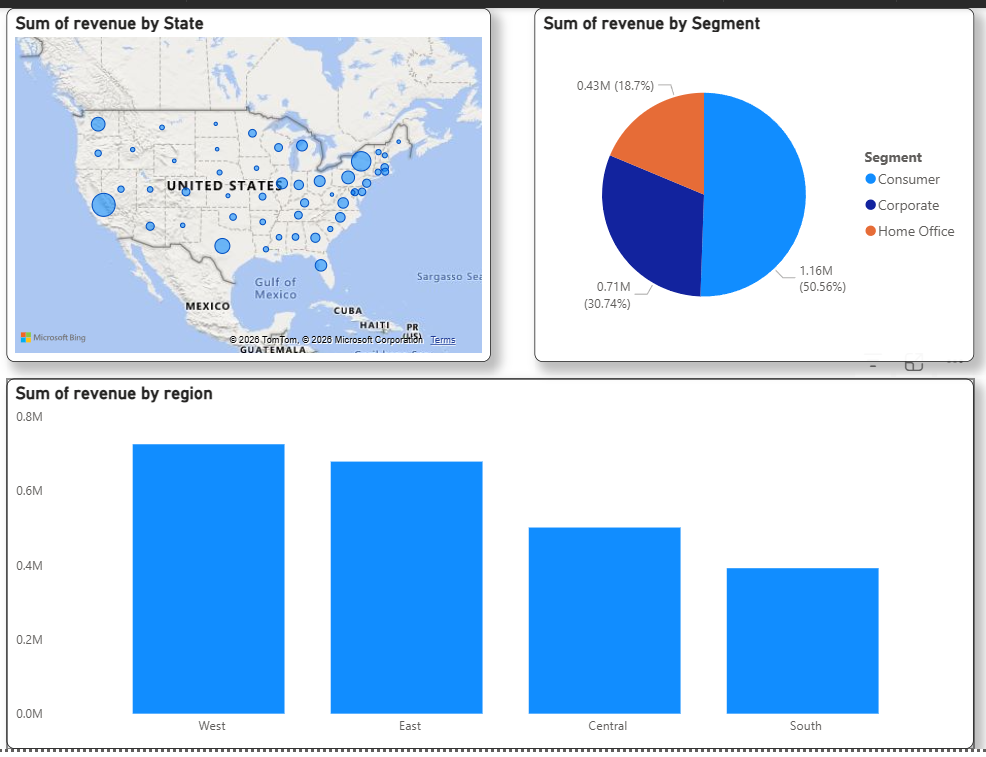

Layout of this report page (visuals, bound fields, positions):
{"tool":"powerbi","page":{"name":"Regional Performance","canvas":[1280,720],"ordinal":1},"visuals":[{"type":"map","fields":{"Category":["public fact_sales.State"],"Size":["Sum(public fact_sales.revenue)"]},"box":[10.2,0,470.9,344.1],"z":0},{"type":"clusteredColumnChart","fields":{"Category":["public fact_sales.region"],"Y":["Sum(public fact_sales.revenue)"]},"box":[10.2,360.1,940.3,360.1],"z":1000},{"type":"pieChart","fields":{"Category":["public fact_sales.Segment"],"Y":["Sum(public fact_sales.revenue)"]},"box":[523.4,0,427.2,344.1],"z":2000}]}

Visuals, with their boxes on the page's 1280x720 design canvas (x1, y1, x2, y2). These are canvas units, not pixel positions in the 986x757 screenshot, which may show the page scaled, cropped or inside an application window:
map - public fact_sales.State x Sum(public fact_sales.revenue): {"left": 10, "top": 0, "right": 481, "bottom": 344}
clusteredColumnChart - public fact_sales.region x Sum(public fact_sales.revenue): {"left": 10, "top": 360, "right": 950, "bottom": 720}
pieChart - public fact_sales.Segment x Sum(public fact_sales.revenue): {"left": 523, "top": 0, "right": 951, "bottom": 344}
